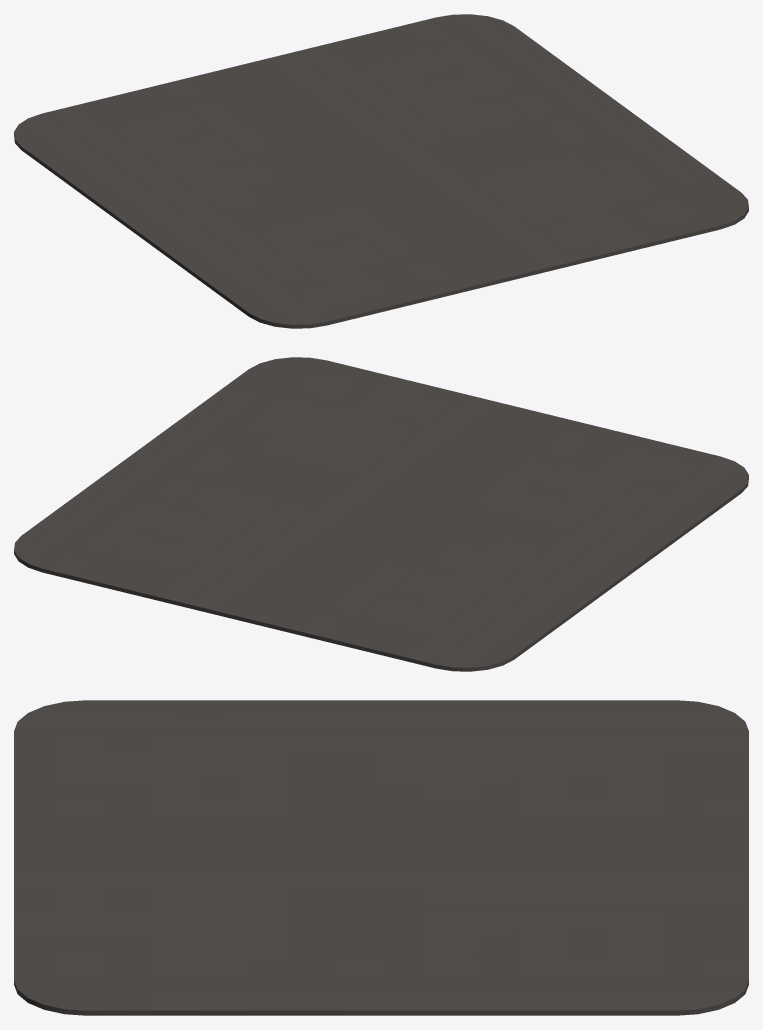
Rendered from glide-speed-pad-l.glb.
3 renders of one model, top to bottom at view 1: azimuth 30°, elevation 25°; view 2: azimuth 150°, elevation 25°; view 3: azimuth 270°, elevation 25°, orthographic. The views are drawn at different scales.
Parts seen in each view (by area): view 1: mouse_pad_grey_cloth_0; view 2: mouse_pad_grey_cloth_0; view 3: mouse_pad_grey_cloth_0.
Boxes of the visible parts, x1,y1,x2,y2 form: mouse_pad_grey_cloth_0: [14, 14, 748, 328]; mouse_pad_grey_cloth_0: [14, 357, 748, 671]; mouse_pad_grey_cloth_0: [14, 700, 748, 1015].
Bounding box in the file's own units: 0.2 × 0.00149 × 0.2.
1 material, 1 textured.
